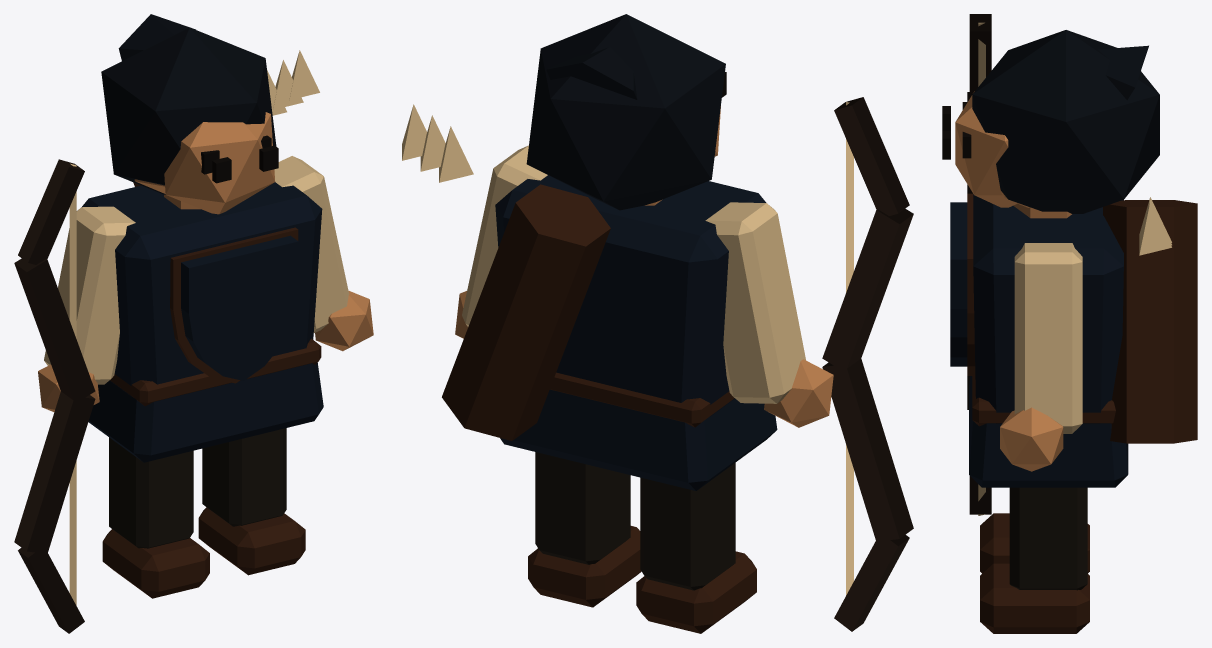
The model's file is archer.obj.
3 renders of one model, left to right at view 1: azimuth 30°, elevation 25°; view 2: azimuth 150°, elevation 25°; view 3: azimuth 270°, elevation 25°, orthographic. The views are drawn at different scales.
Visible parts, largest first — view 1: body, tool; view 2: body, tool; view 3: body, tool.
Boxes of the visible parts, bbox=[...] form: body: bbox=[38, 14, 373, 598]; tool: bbox=[14, 159, 95, 633]; body: bbox=[402, 14, 833, 633]; tool: bbox=[822, 97, 913, 631]; body: bbox=[942, 30, 1197, 633]; tool: bbox=[967, 14, 991, 515].
Bounding box in the file's own units: 0.2728 × 0.3719 × 0.1508.
